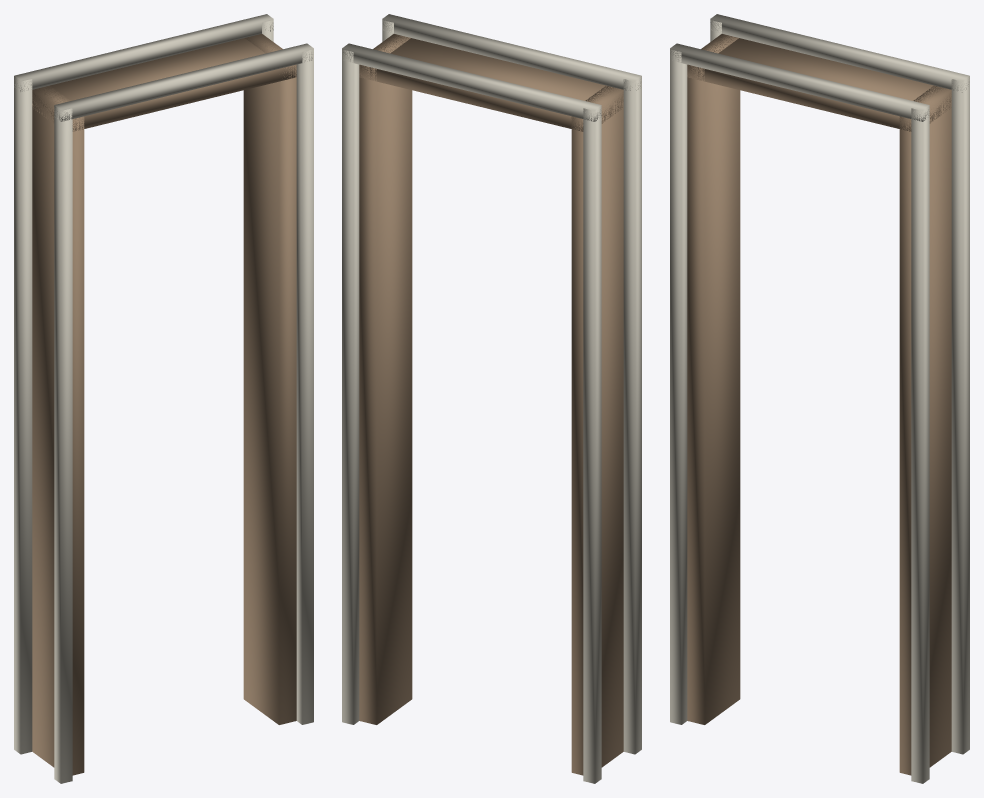
File: doorway_painted_trim_w76_h240_d24.glb
The picture shows the model from 3 angles, left to right: view 1: azimuth 30°, elevation 25°; view 2: azimuth 150°, elevation 25°; view 3: azimuth 330°, elevation 25°; orthographic projection.
Parts seen in each view (by area): view 1: world; view 2: world; view 3: world.
Part boxes in pixels (x1,y1,x2,y2): world: (14,14,313,783); world: (342,14,641,783); world: (670,14,969,783).
Bounding box in the file's own units: 0.9868 × 2.51 × 0.3165.
